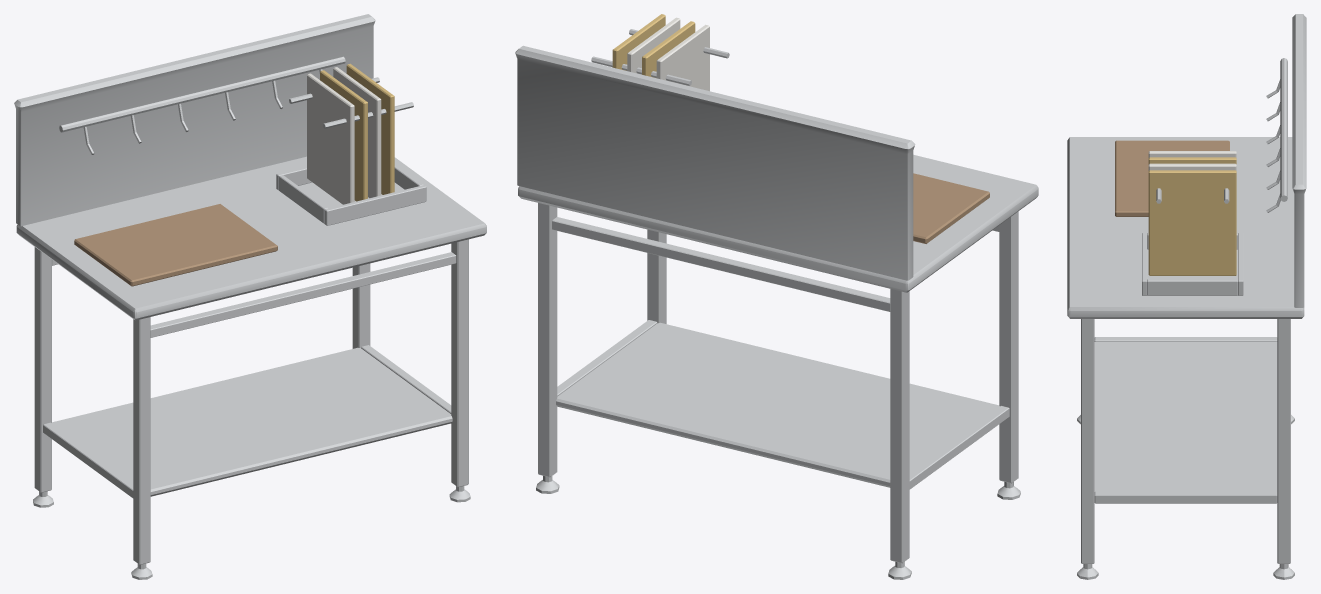
Rendered from restaurant-kitchen-and-dining-chopping-station-ffb79170__16429.glb.
The picture shows the model from 3 angles, left to right: view 1: azimuth 30°, elevation 25°; view 2: azimuth 150°, elevation 25°; view 3: azimuth 270°, elevation 25°; orthographic projection. The views are drawn at different scales.
Parts seen in each view (by area): view 1: chopping-station; view 2: chopping-station; view 3: chopping-station.
Boxes of the visible parts, <box> form: chopping-station: <box>14,14,486,579</box>; chopping-station: <box>515,14,1038,579</box>; chopping-station: <box>1067,14,1306,579</box>.
Bounding box in the file's own units: 1.21 × 1.3 × 0.706.
